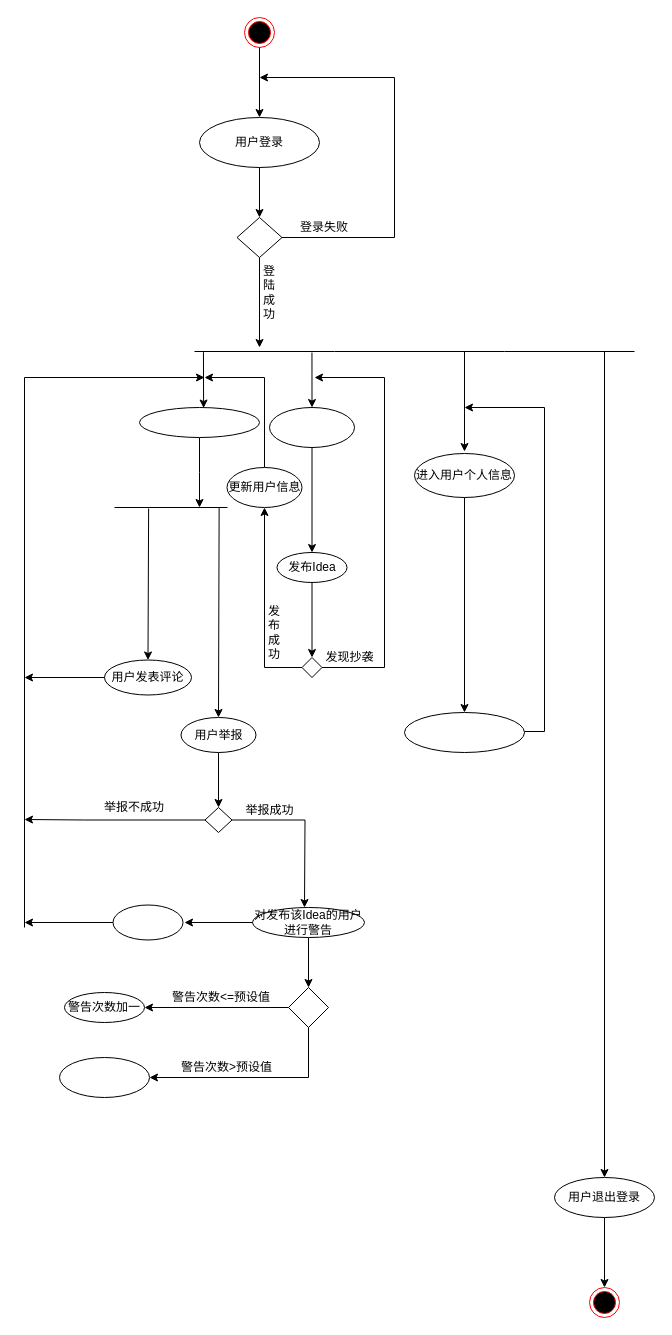
Some shapes in this 672 by 1335 pixel diagram are drawn without their labels. The box of each missing label's shape, as (x1, y1, x2, y2) in pixels:
用户修改个人信息: (404, 712, 524, 752)
禁封用户账号: (58, 1056, 150, 1098)
返回举报成功消息: (112, 904, 183, 940)
进入Idea浏览界面: (138, 406, 260, 438)
进入Idea编辑界面: (268, 406, 354, 448)
